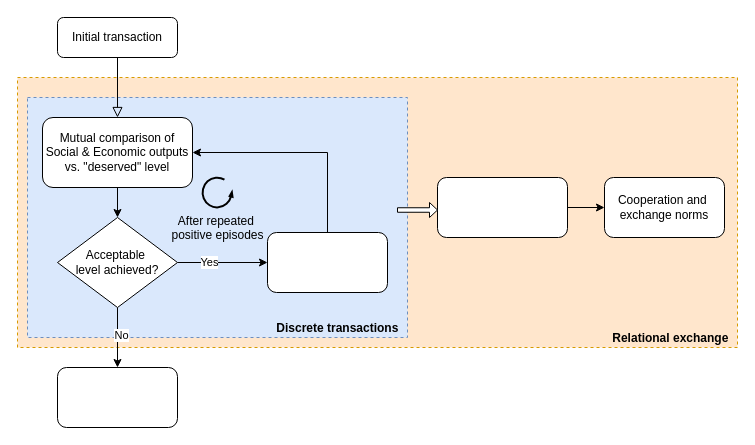
Some shapes in this 755 by 445 pixel diagram are drawn without their labels. Each missing label, with the box of its shape:
Build of Interdependence, Trust, and Commitment: (436, 176, 568, 238)
New transation: (266, 232, 388, 292)
Terminate relationship: (56, 366, 178, 428)
